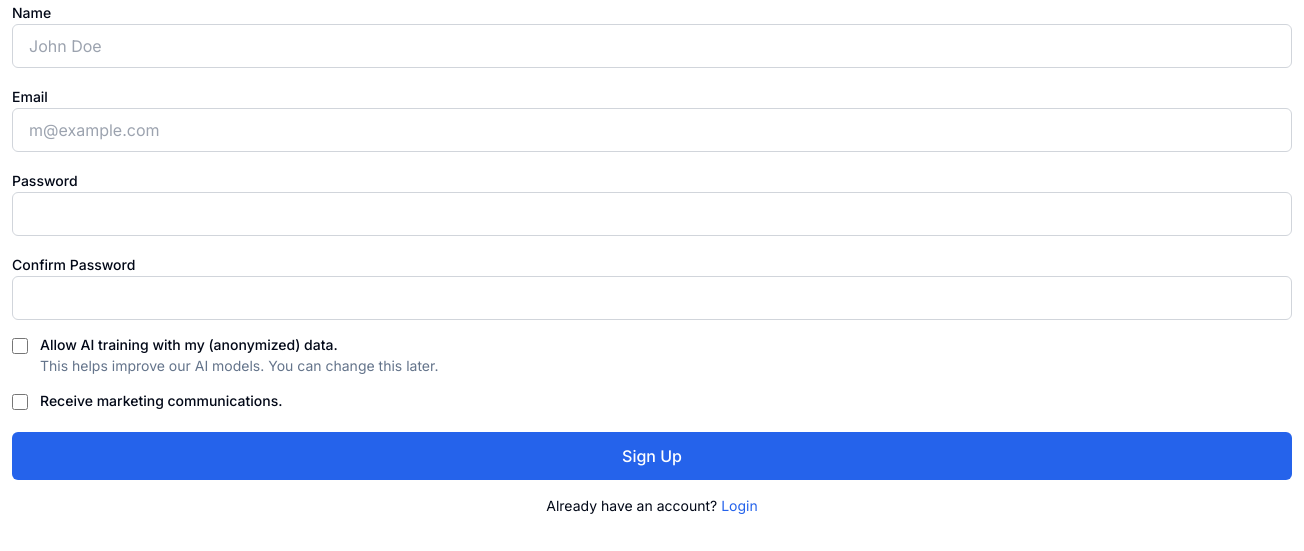
Test: SignupForm Component › displays validation error if passwords do not match
The width and height of the screenshot is (1304, 551).
Type "Test User" into the field labelled "Name" at (652, 46), box [12,24,1292,68]
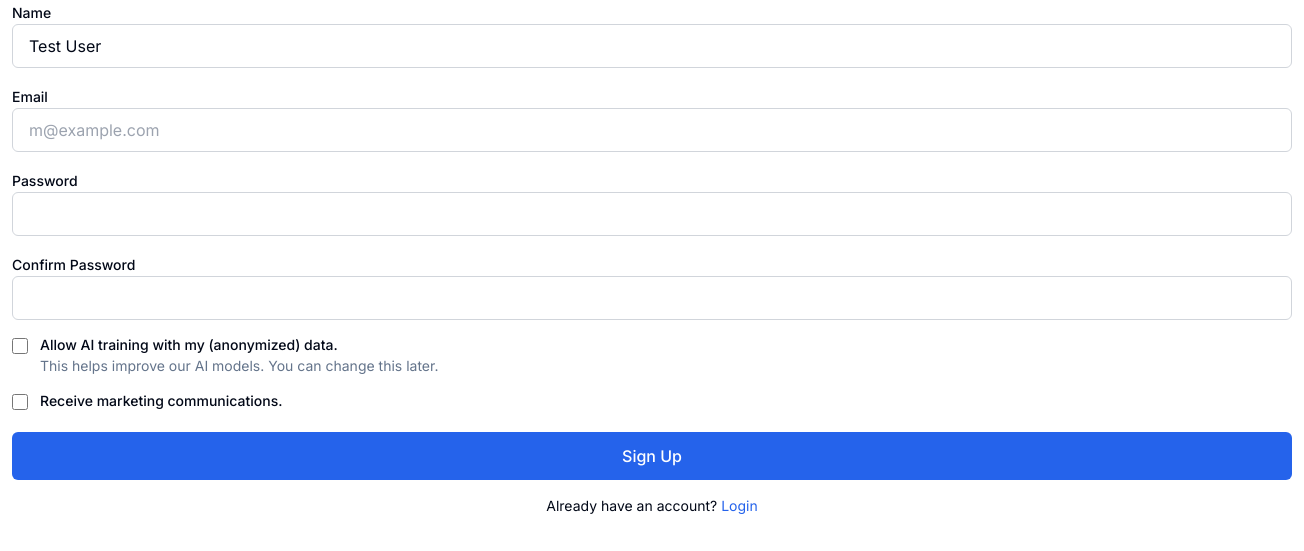
Type "test@example.com" into the field labelled "Email" at (652, 130), box [12,108,1292,152]
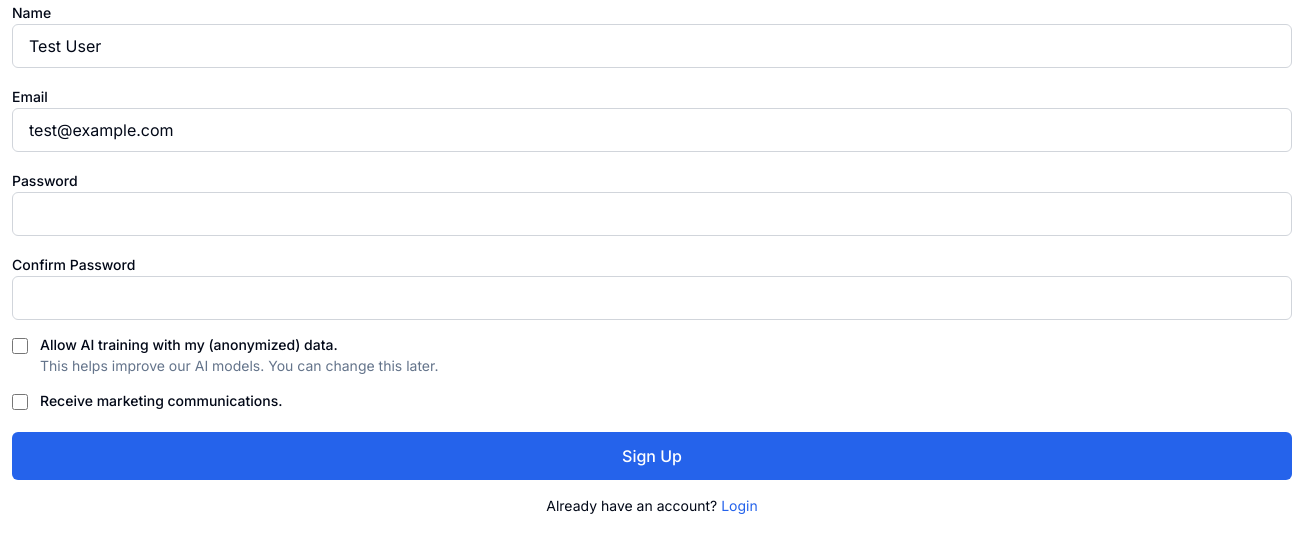
Type "Password123!" into the password field labelled "Password" at (652, 214), box [12,192,1292,236]
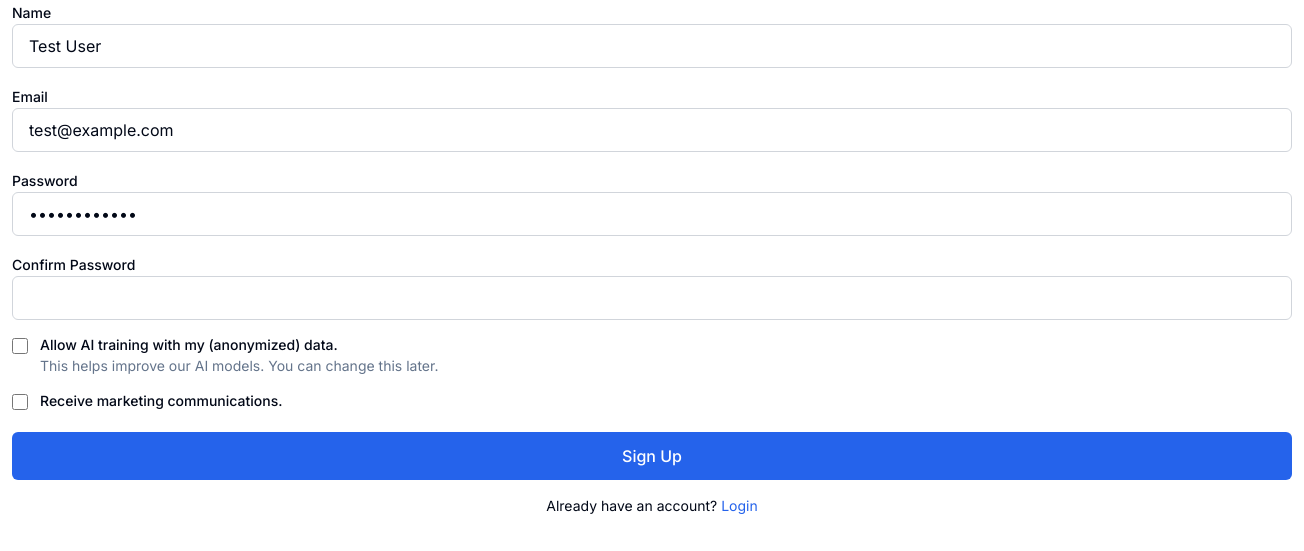
Type "Mismatch123!" into the password field labelled "Confirm Password" at (652, 298), box [12,276,1292,320]
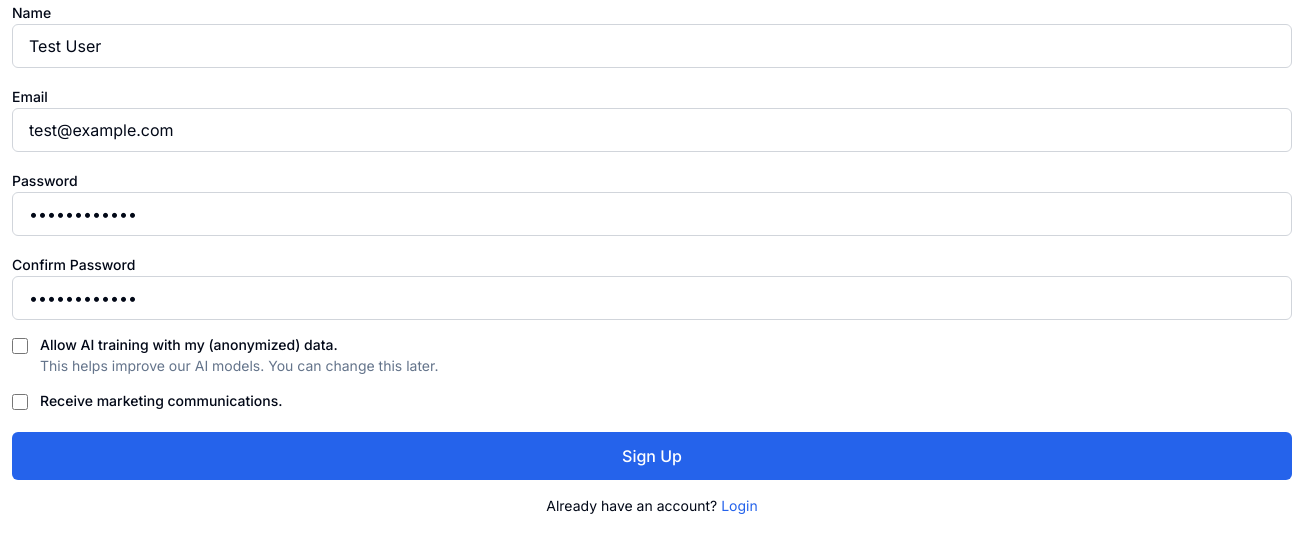
Click the button "Sign Up" at (652, 456), box [12,432,1292,480]
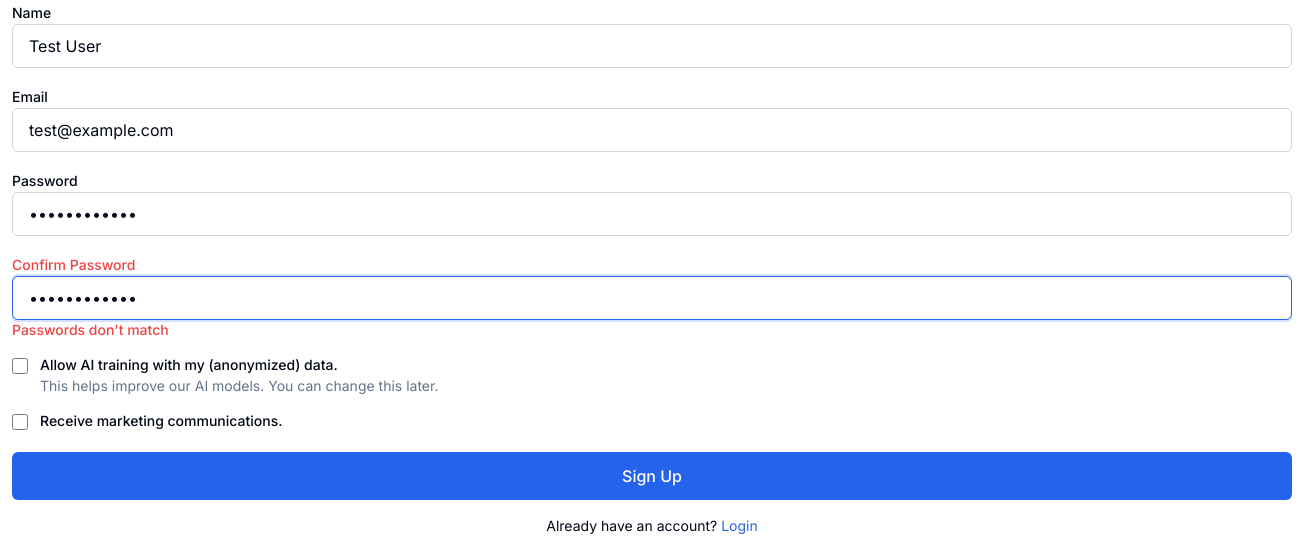
Expected: the text "Passwords don't match" is shown, [12,321,169,338]
